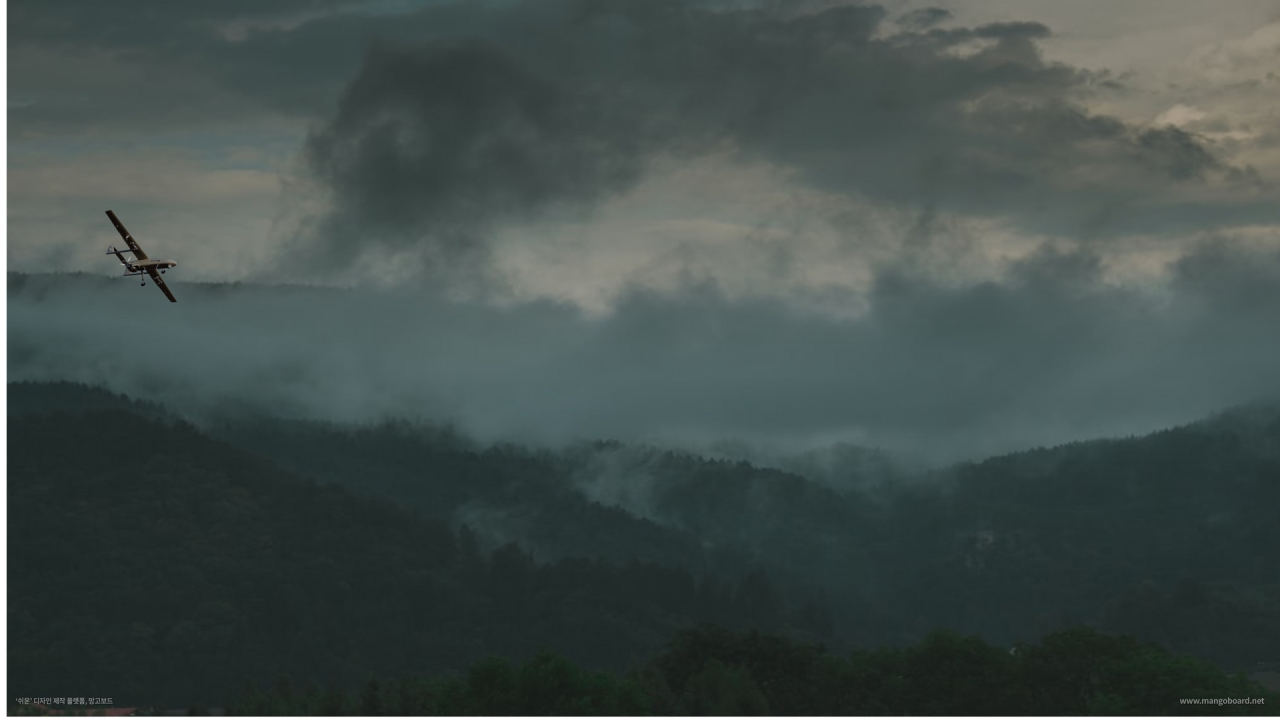military drone: (103, 209, 176, 302)
